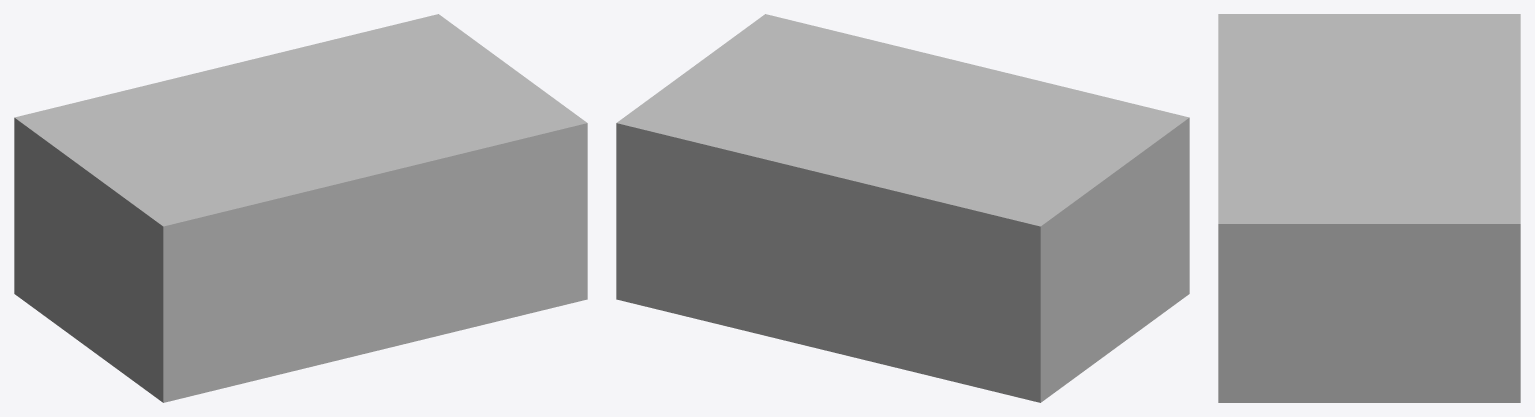
Rendered from Itr_Obj_Grandfatherclock2_Base_06.FBX.
3 renders of one model, left to right at view 1: azimuth 30°, elevation 25°; view 2: azimuth 150°, elevation 25°; view 3: azimuth 270°, elevation 25°, orthographic.
Parts seen in each view (by area): view 1: Itr_Obj_Grandfatherclock2_Base_06; view 2: Itr_Obj_Grandfatherclock2_Base_06; view 3: Itr_Obj_Grandfatherclock2_Base_06.
Part boxes in pixels (<box>): Itr_Obj_Grandfatherclock2_Base_06: <box>14,14,587,402</box>; Itr_Obj_Grandfatherclock2_Base_06: <box>616,14,1189,402</box>; Itr_Obj_Grandfatherclock2_Base_06: <box>1218,14,1520,402</box>.
Bounding box in the file's own units: 23.06 × 9.16 × 14.03.
